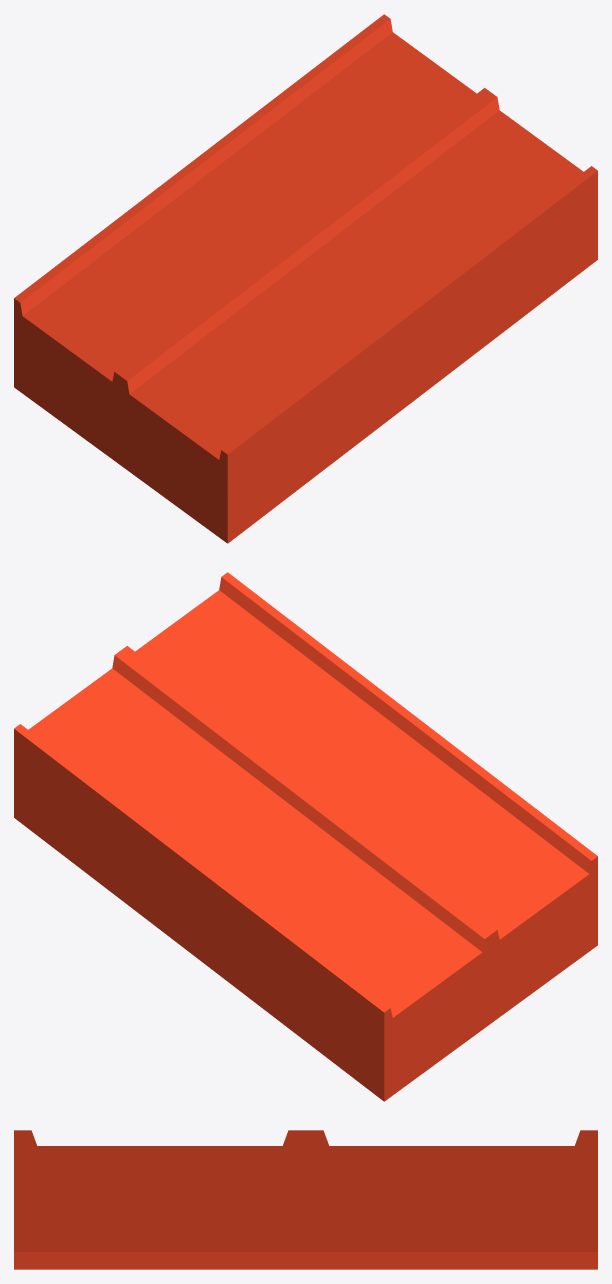
The model's file is roof-metal-moderate-1x1m.fbx.
3 renders of one model, top to bottom at view 1: azimuth 30°, elevation 25°; view 2: azimuth 150°, elevation 25°; view 3: azimuth 270°, elevation 25°, orthographic. The views are drawn at different scales.
Parts seen in each view (by area): view 1: roof-metal-moderate-1x1m; view 2: roof-metal-moderate-1x1m; view 3: roof-metal-moderate-1x1m.
Boxes of the visible parts, x1,y1,x2,y2 form: roof-metal-moderate-1x1m: (14, 14, 597, 543); roof-metal-moderate-1x1m: (14, 572, 597, 1101); roof-metal-moderate-1x1m: (14, 1130, 597, 1269).
Bounding box in the file's own units: 1 × 0.7301 × 1.
